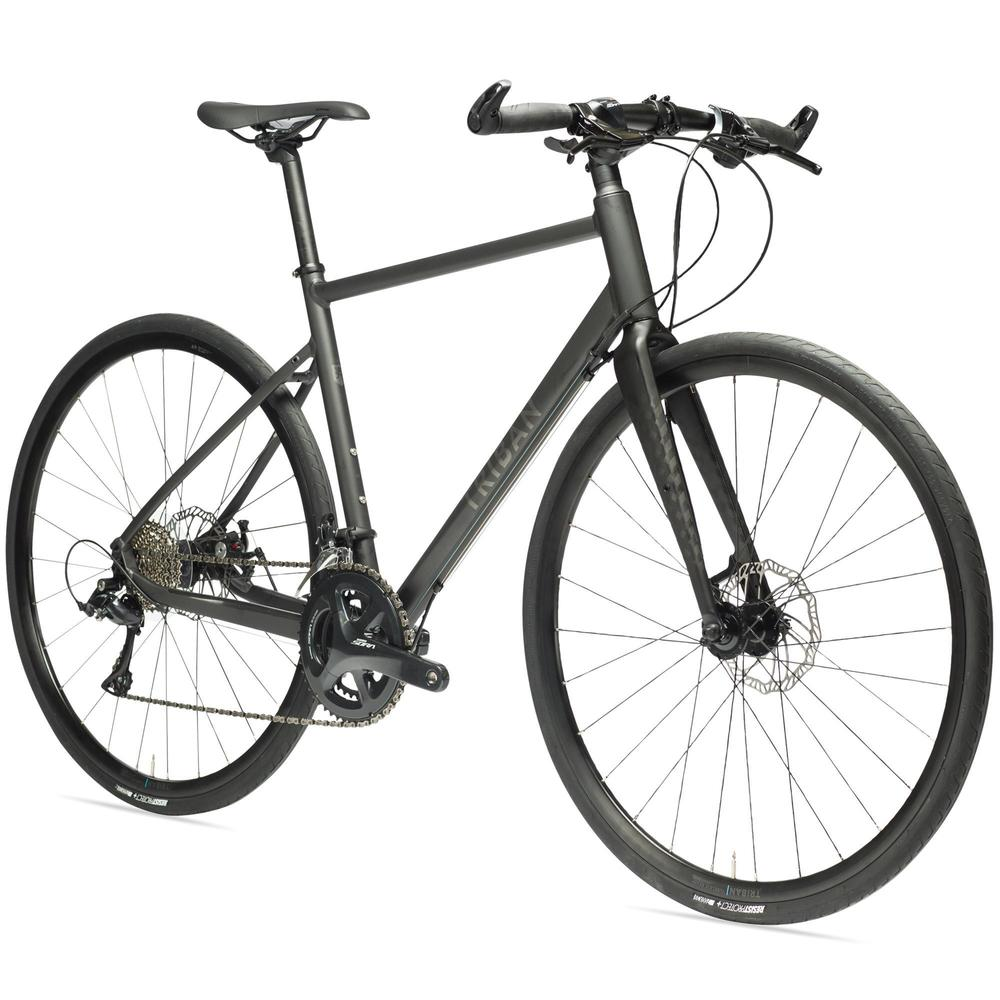RoadBike: (6, 73, 984, 903)
